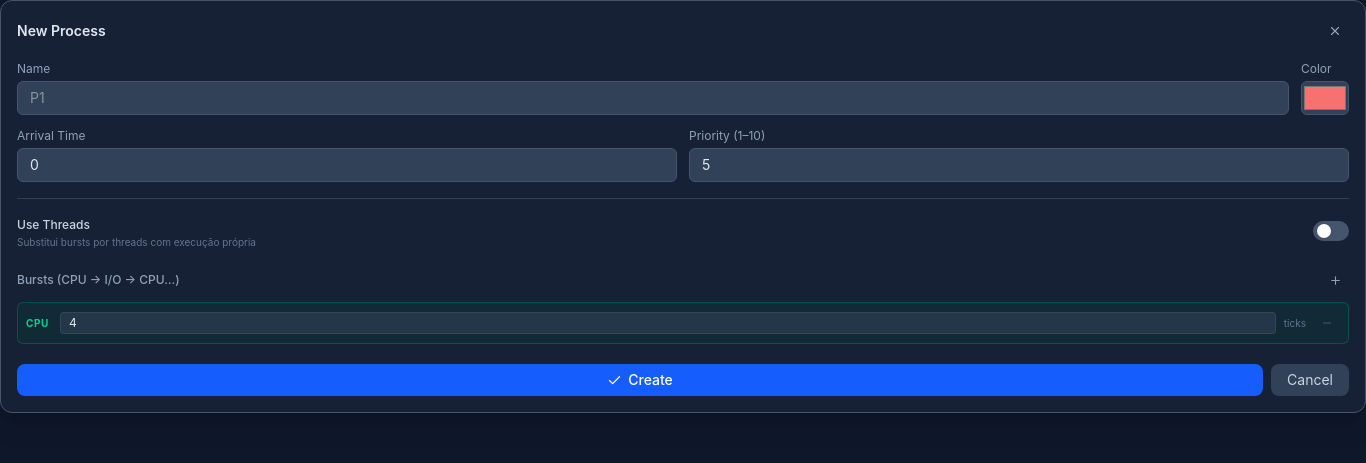
Test: ProcessForm › shows validation error for name longer than 8 chars
The image size is (1366, 463).
Bypass the HTML maxLength attribute via fireEvent to test the JS validation
Type "ProcessXXLong" into the field named "Process name" at [653, 98], box [17,81,1289,115]
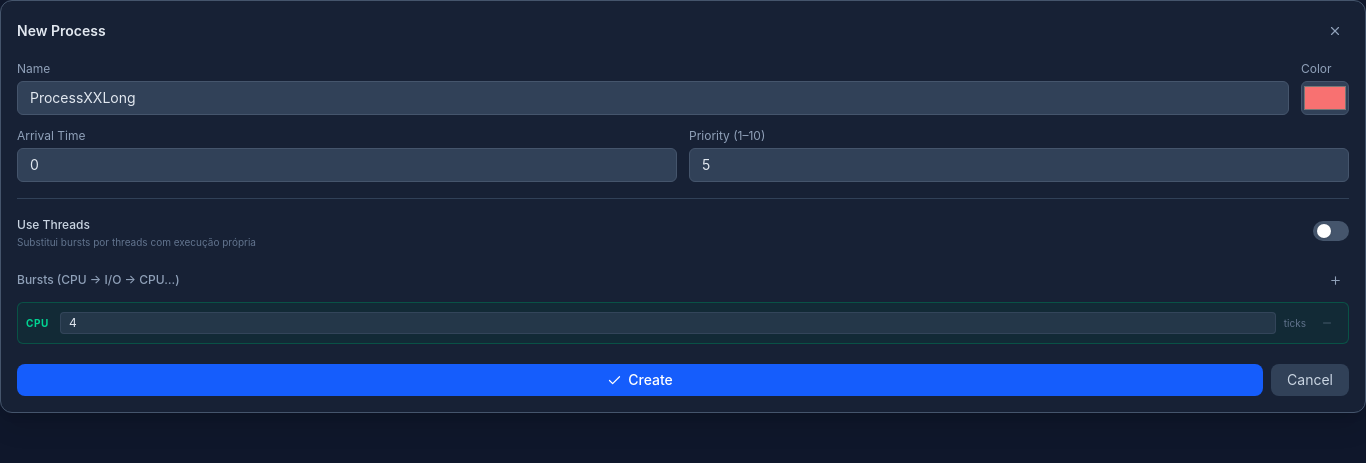
Click the button "Create" at [640, 380], box [17,364,1263,396]
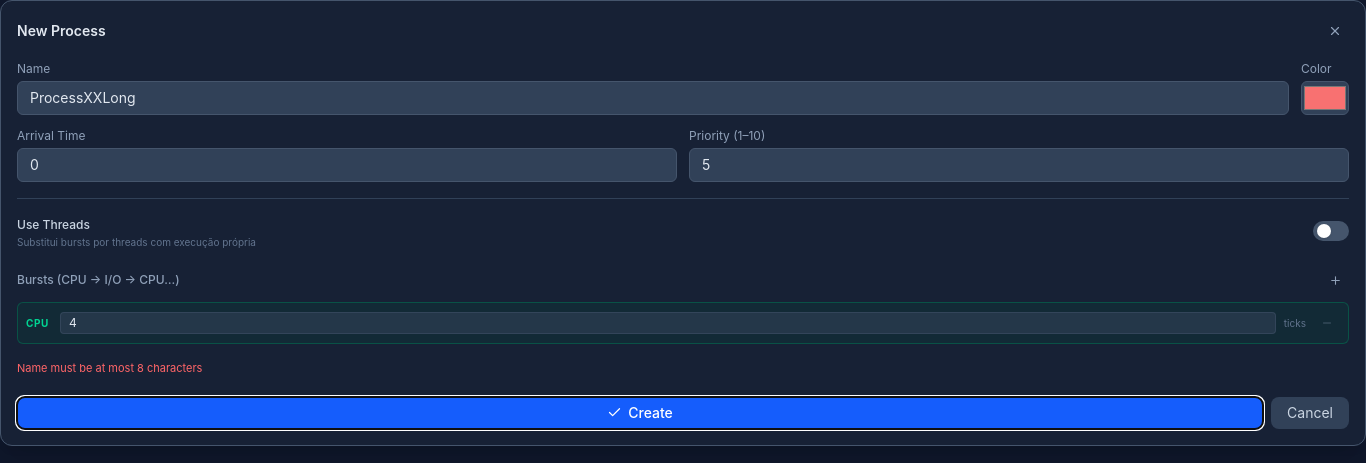
Check: the list item "Name must be at most 8 characters" is shown, box [17,361,202,375]
